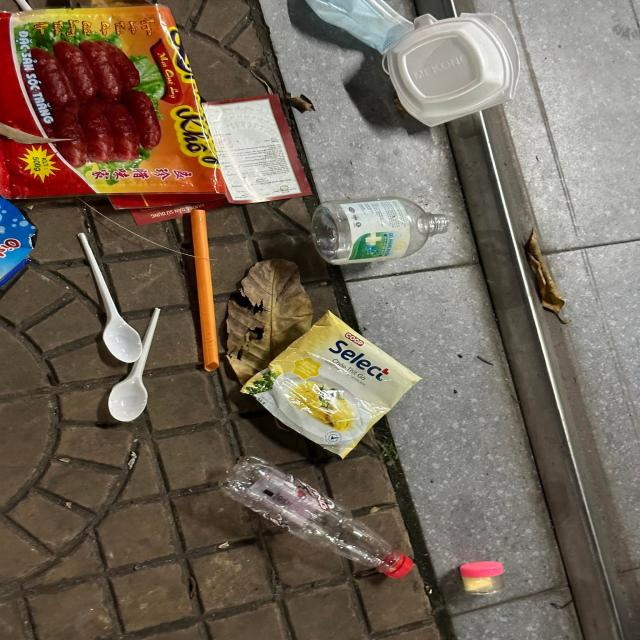bottle: (220, 455, 413, 580)
drinking straw: (193, 210, 218, 372)
foam box: (389, 13, 519, 126)
mask: (305, 0, 414, 54)
paper: (201, 96, 315, 202)
plastic holder: (314, 198, 450, 266), (462, 562, 504, 598)
plastic utensil: (78, 232, 142, 364), (109, 310, 160, 424)
snack package: (0, 5, 232, 211), (242, 310, 422, 458)
